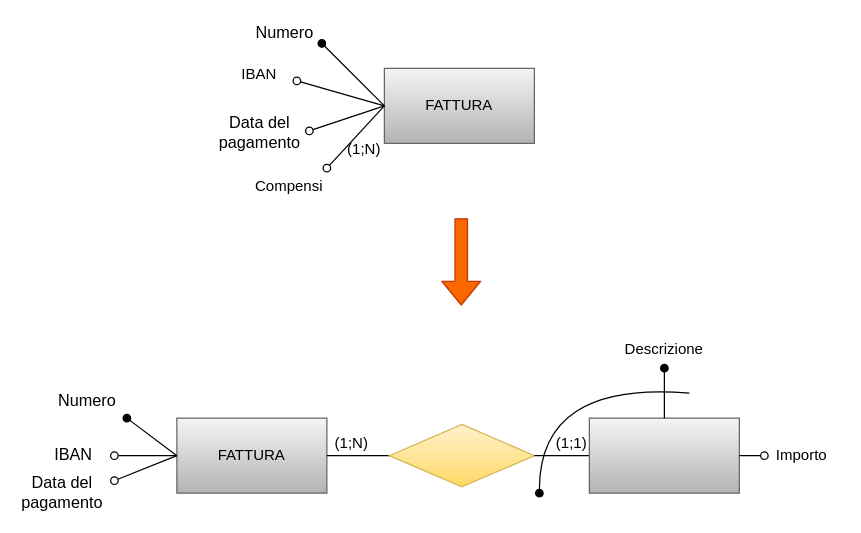
Image size: 861x533. Some labels were removed from this diagram. Each missing label, with the box of its shape:
COMPENSO: (588, 417, 739, 493)
Elenco compensi: (388, 423, 534, 487)
